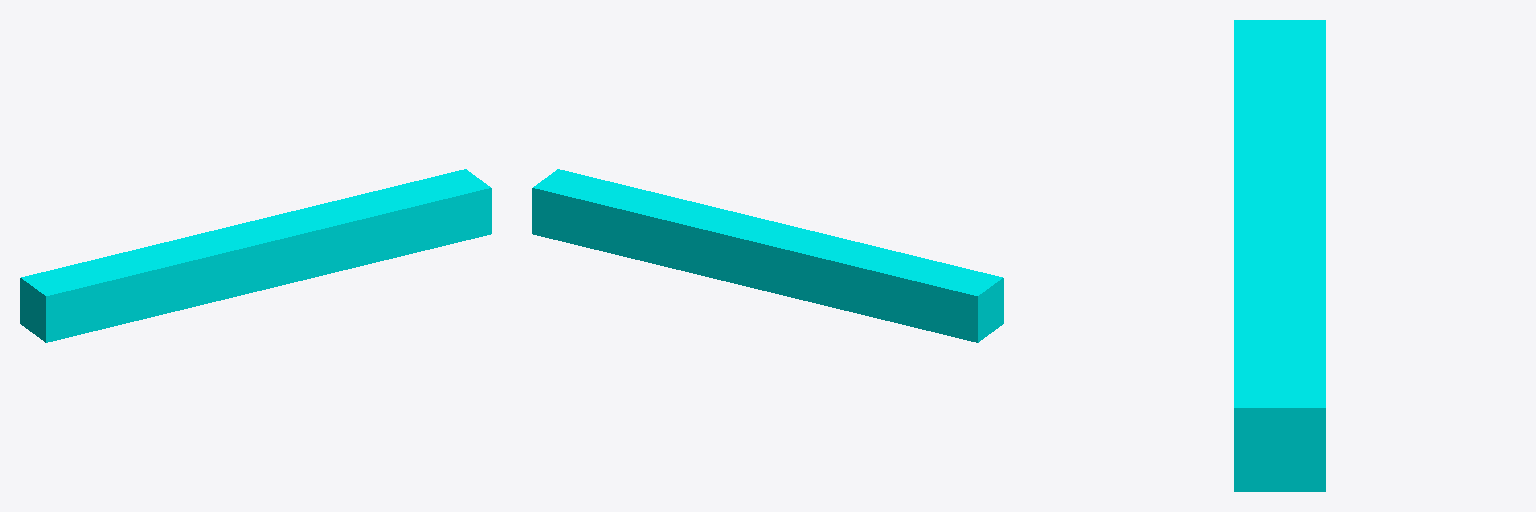
URDF robot description (tenLinks):
<robot name="tenLinks">
    <!-- Base link -->
    <link name="base_link" />

    <joint name="base_fixed_joint" type="fixed">
        <origin xyz="0 0 0" rpy="0 -0 0" />
        <axis xyz="0 0 0" />
        <parent link="base_link" />
        <child link="link1" />
    </joint>

    <!-- LINK 1 -->
    <link name="link1">
        <inertial>
            <mass value="1" />
            <inertia ixx="0.01" ixy="0.0" ixz="0.0" iyy="0.01" iyz="0.0" izz="0.01" />
        </inertial>
        <visual>
            <origin xyz="0 0 0" rpy="0 0 0" />
            <geometry>
                <box size="1 1 1" />
            </geometry>
            <material name="Cyan">
                <color rgba="0 1.0 1.0 1.0"/>
            </material>
        </visual>
        <collision>
            <origin xyz="0 0 0" rpy="0 0 0" />
            <geometry>
                <box size="1 1 1" />
            </geometry>
        </collision>
    </link>

    <!-- JOINT 1-2 -->
    <joint name="joint_1_2" type="continuous">
        <origin xyz="1 0 0" rpy="0 -0 0" />
        <axis xyz="0 0 1" />
        <parent link="link1" />
        <child link="link2" />
    </joint>

    <!-- LINK 2 -->
    <link name="link2">
        <inertial>
            <mass value="1" />
            <inertia ixx="0.01" ixy="0.0" ixz="0.0" iyy="0.01" iyz="0.0" izz="0.01" />
            <origin xyz="1 0 0" rpy="0 -0 0" />
        </inertial>
        <visual>
            <origin xyz="0 0 0" rpy="0 0 0" />
            <geometry>
                <box size="1 1 1" />
            </geometry>
            <material name="Cyan">
                <color rgba="0 1.0 1.0 1.0"/>
            </material>
        </visual>
        <collision>
            <origin xyz="0 0 0" rpy="0 0 0" />
            <geometry>
                <box size="1 1 1" />
            </geometry>
        </collision>
    </link>

    <!-- JOINT 2-3 -->
    <joint name="joint_2_3" type="continuous">
        <origin xyz="1 0 0" rpy="0 -0 0" />
        <axis xyz="0 0 1" />
        <parent link="link2" />
        <child link="link3" />
    </joint>

    <!-- LINK 3 -->
    <link name="link3">
        <inertial>
            <mass value="1" />
            <inertia ixx="0.01" ixy="0.0" ixz="0.0" iyy="0.01" iyz="0.0" izz="0.01" />
            <origin xyz="1 0 0" rpy="0 -0 0" />
        </inertial>
        <visual>
            <origin xyz="0 0 0" rpy="0 0 0" />
            <geometry>
                <box size="1 1 1" />
            </geometry>
            <material name="Cyan">
                <color rgba="0 1.0 1.0 1.0"/>
            </material>
        </visual>
        <collision>
            <origin xyz="0 0 0" rpy="0 0 0" />
            <geometry>
                <box size="1 1 1" />
            </geometry>
        </collision>
    </link>

    <!-- JOINT 3-4 -->
    <joint name="joint_3_4" type="continuous">
        <origin xyz="1 0 0" rpy="0 -0 0" />
        <axis xyz="0 0 1" />
        <parent link="link3" />
        <child link="link4" />
    </joint>

    <!-- LINK 4 -->
    <link name="link4">
        <inertial>
            <mass value="1" />
            <inertia ixx="0.01" ixy="0.0" ixz="0.0" iyy="0.01" iyz="0.0" izz="0.01" />
            <origin xyz="1 0 0" rpy="0 -0 0" />
        </inertial>
        <visual>
            <origin xyz="0 0 0" rpy="0 0 0" />
            <geometry>
                <box size="1 1 1" />
            </geometry>
            <material name="Cyan">
                <color rgba="0 1.0 1.0 1.0"/>
            </material>
        </visual>
        <collision>
            <origin xyz="0 0 0" rpy="0 0 0" />
            <geometry>
                <box size="1 1 1" />
            </geometry>
        </collision>
    </link>

    <!-- JOINT 4-5 -->
    <joint name="joint_4_5" type="continuous">
        <origin xyz="1 0 0" rpy="0 -0 0" />
        <axis xyz="0 0 1" />
        <parent link="link4" />
        <child link="link5" />
    </joint>

    <!-- LINK 5 -->
    <link name="link5">
        <inertial>
            <mass value="1" />
            <inertia ixx="0.01" ixy="0.0" ixz="0.0" iyy="0.01" iyz="0.0" izz="0.01" />
            <origin xyz="1 0 0" rpy="0 -0 0" />
        </inertial>
        <visual>
            <origin xyz="0 0 0" rpy="0 0 0" />
            <geometry>
                <box size="1 1 1" />
            </geometry>
            <material name="Cyan">
                <color rgba="0 1.0 1.0 1.0"/>
            </material>
        </visual>
        <collision>
            <origin xyz="0 0 0" rpy="0 0 0" />
            <geometry>
                <box size="1 1 1" />
            </geometry>
        </collision>
    </link>

    <!-- JOINT 5-6 -->
    <joint name="joint_5_6" type="continuous">
        <origin xyz="1 0 0" rpy="0 -0 0" />
        <axis xyz="0 0 1" />
        <parent link="link5" />
        <child link="link6" />
    </joint>

    <!-- LINK 6 -->
    <link name="link6">
        <inertial>
            <mass value="1" />
            <inertia ixx="0.01" ixy="0.0" ixz="0.0" iyy="0.01" iyz="0.0" izz="0.01" />
            <origin xyz="1 0 0" rpy="0 -0 0" />
        </inertial>
        <visual>
            <origin xyz="0 0 0" rpy="0 0 0" />
            <geometry>
                <box size="1 1 1" />
            </geometry>
            <material name="Cyan">
                <color rgba="0 1.0 1.0 1.0"/>
            </material>
        </visual>
        <collision>
            <origin xyz="0 0 0" rpy="0 0 0" />
            <geometry>
                <box size="1 1 1" />
            </geometry>
        </collision>
    </link>

    <!-- JOINT 6-7 -->
    <joint name="joint_6_7" type="continuous">
        <origin xyz="1 0 0" rpy="0 -0 0" />
        <axis xyz="0 0 1" />
        <parent link="link6" />
        <child link="link7" />
    </joint>

    <!-- LINK 7 -->
    <link name="link7">
        <inertial>
            <mass value="1" />
            <inertia ixx="0.01" ixy="0.0" ixz="0.0" iyy="0.01" iyz="0.0" izz="0.01" />
            <origin xyz="1 0 0" rpy="0 -0 0" />
        </inertial>
        <visual>
            <origin xyz="0 0 0" rpy="0 0 0" />
            <geometry>
                <box size="1 1 1" />
            </geometry>
            <material name="Cyan">
                <color rgba="0 1.0 1.0 1.0"/>
            </material>
        </visual>
        <collision>
            <origin xyz="0 0 0" rpy="0 0 0" />
            <geometry>
                <box size="1 1 1" />
            </geometry>
        </collision>
    </link>

    <!-- JOINT 7-8 -->
    <joint name="joint_7_8" type="continuous">
        <origin xyz="1 0 0" rpy="0 -0 0" />
        <axis xyz="0 0 1" />
        <parent link="link7" />
        <child link="link8" />
    </joint>

    <!-- LINK 8 -->
    <link name="link8">
        <inertial>
            <mass value="1" />
            <inertia ixx="0.01" ixy="0.0" ixz="0.0" iyy="0.01" iyz="0.0" izz="0.01" />
            <origin xyz="1 0 0" rpy="0 -0 0" />
        </inertial>
        <visual>
            <origin xyz="0 0 0" rpy="0 0 0" />
            <geometry>
                <box size="1 1 1" />
            </geometry>
            <material name="Cyan">
                <color rgba="0 1.0 1.0 1.0"/>
            </material>
        </visual>
        <collision>
            <origin xyz="0 0 0" rpy="0 0 0" />
            <geometry>
                <box size="1 1 1" />
            </geometry>
        </collision>
    </link>

    <!-- JOINT 8-9 -->
    <joint name="joint_8_9" type="continuous">
        <origin xyz="1 0 0" rpy="0 -0 0" />
        <axis xyz="0 0 1" />
        <parent link="link8" />
        <child link="link9" />
    </joint>

    <!-- LINK 9 -->
    <link name="link9">
        <inertial>
            <mass value="1" />
            <inertia ixx="0.01" ixy="0.0" ixz="0.0" iyy="0.01" iyz="0.0" izz="0.01" />
            <origin xyz="1 0 0" rpy="0 -0 0" />
        </inertial>
        <visual>
            <origin xyz="0 0 0" rpy="0 0 0" />
            <geometry>
                <box size="1 1 1" />
            </geometry>
            <material name="Cyan">
                <color rgba="0 1.0 1.0 1.0"/>
            </material>
        </visual>
        <collision>
            <origin xyz="0 0 0" rpy="0 0 0" />
            <geometry>
                <box size="1 1 1" />
            </geometry>
        </collision>
    </link>

    <!-- JOINT 9-10 -->
    <joint name="joint_9_10" type="continuous">
        <origin xyz="1 0 0" rpy="0 -0 0" />
        <axis xyz="0 0 1" />
        <parent link="link9" />
        <child link="link10" />
    </joint>

    <!-- LINK 10 -->
    <link name="link10">
        <inertial>
            <mass value="1" />
            <inertia ixx="0.01" ixy="0.0" ixz="0.0" iyy="0.01" iyz="0.0" izz="0.01" />
            <origin xyz="1 0 0" rpy="0 -0 0" />
        </inertial>
        <visual>
            <origin xyz="0 0 0" rpy="0 0 0" />
            <geometry>
                <box size="1 1 1" />
            </geometry>
            <material name="Cyan">
                <color rgba="0 1.0 1.0 1.0"/>
            </material>
        </visual>
        <collision>
            <origin xyz="0 0 0" rpy="0 0 0" />
            <geometry>
                <box size="1 1 1" />
            </geometry>
        </collision>
    </link>

</robot>

--- Facts derived from the render (not from the file) ---
3 views of the same robot in one strip: view 1: azimuth 30°, elevation 25°; view 2: azimuth 150°, elevation 25°; view 3: azimuth 270°, elevation 25° (orthographic).
Model tenLinks with 11 links and 10 joints (9 continuous, 1 fixed), rooted at base_link, posed all joints at 0.
Links seen in each view (by area): view 1: link1, link5, link7, link10, link3, link9, link6, link2, link4, link8; view 2: link1, link5, link7, link10, link3, link9, link6, link2, link4, link8; view 3: link10, link1, link2, link3, link4, link6, link7, link8, link9, link5.
Link boxes in pixels (x1=…): link1: x1=20, y1=267, x2=90, y2=342; link5: x1=199, y1=223, x2=268, y2=299; link7: x1=288, y1=202, x2=357, y2=277; link10: x1=422, y1=169, x2=491, y2=244; link3: x1=110, y1=245, x2=179, y2=320; link9: x1=378, y1=180, x2=446, y2=255; link6: x1=243, y1=212, x2=312, y2=288; link2: x1=66, y1=256, x2=134, y2=331; link4: x1=155, y1=234, x2=223, y2=309; link8: x1=332, y1=191, x2=401, y2=266; link1: x1=933, y1=267, x2=1003, y2=342; link5: x1=755, y1=223, x2=824, y2=299; link7: x1=666, y1=202, x2=735, y2=277; link10: x1=532, y1=169, x2=601, y2=244; link3: x1=844, y1=245, x2=913, y2=320; link9: x1=577, y1=180, x2=645, y2=255; link6: x1=711, y1=212, x2=780, y2=288; link2: x1=889, y1=256, x2=957, y2=331; link4: x1=800, y1=234, x2=868, y2=309; link8: x1=622, y1=191, x2=691, y2=266; link10: x1=1234, y1=370, x2=1325, y2=491; link1: x1=1234, y1=20, x2=1325, y2=58; link2: x1=1234, y1=59, x2=1325, y2=97; link3: x1=1234, y1=98, x2=1325, y2=136; link4: x1=1234, y1=137, x2=1325, y2=175; link6: x1=1234, y1=214, x2=1325, y2=252; link7: x1=1234, y1=253, x2=1325, y2=291; link8: x1=1234, y1=292, x2=1325, y2=330; link9: x1=1234, y1=331, x2=1325, y2=369; link5: x1=1234, y1=176, x2=1325, y2=213.
Bounding box of the posed robot: 10 × 1 × 1 m (x, y, z).
Geometry: primitives only (box / cylinder / sphere), no mesh files.